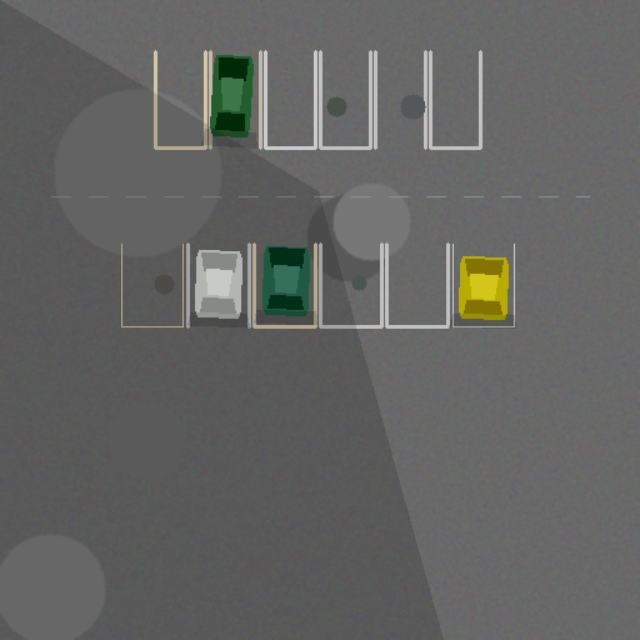space-empty: (121, 244, 183, 326), (320, 244, 381, 326), (386, 244, 447, 326), (155, 51, 205, 147), (265, 51, 315, 147), (320, 51, 370, 147), (375, 51, 425, 147), (430, 51, 480, 147)
space-occupied: (187, 244, 249, 326), (254, 244, 315, 326), (453, 244, 514, 326), (210, 51, 260, 147)
